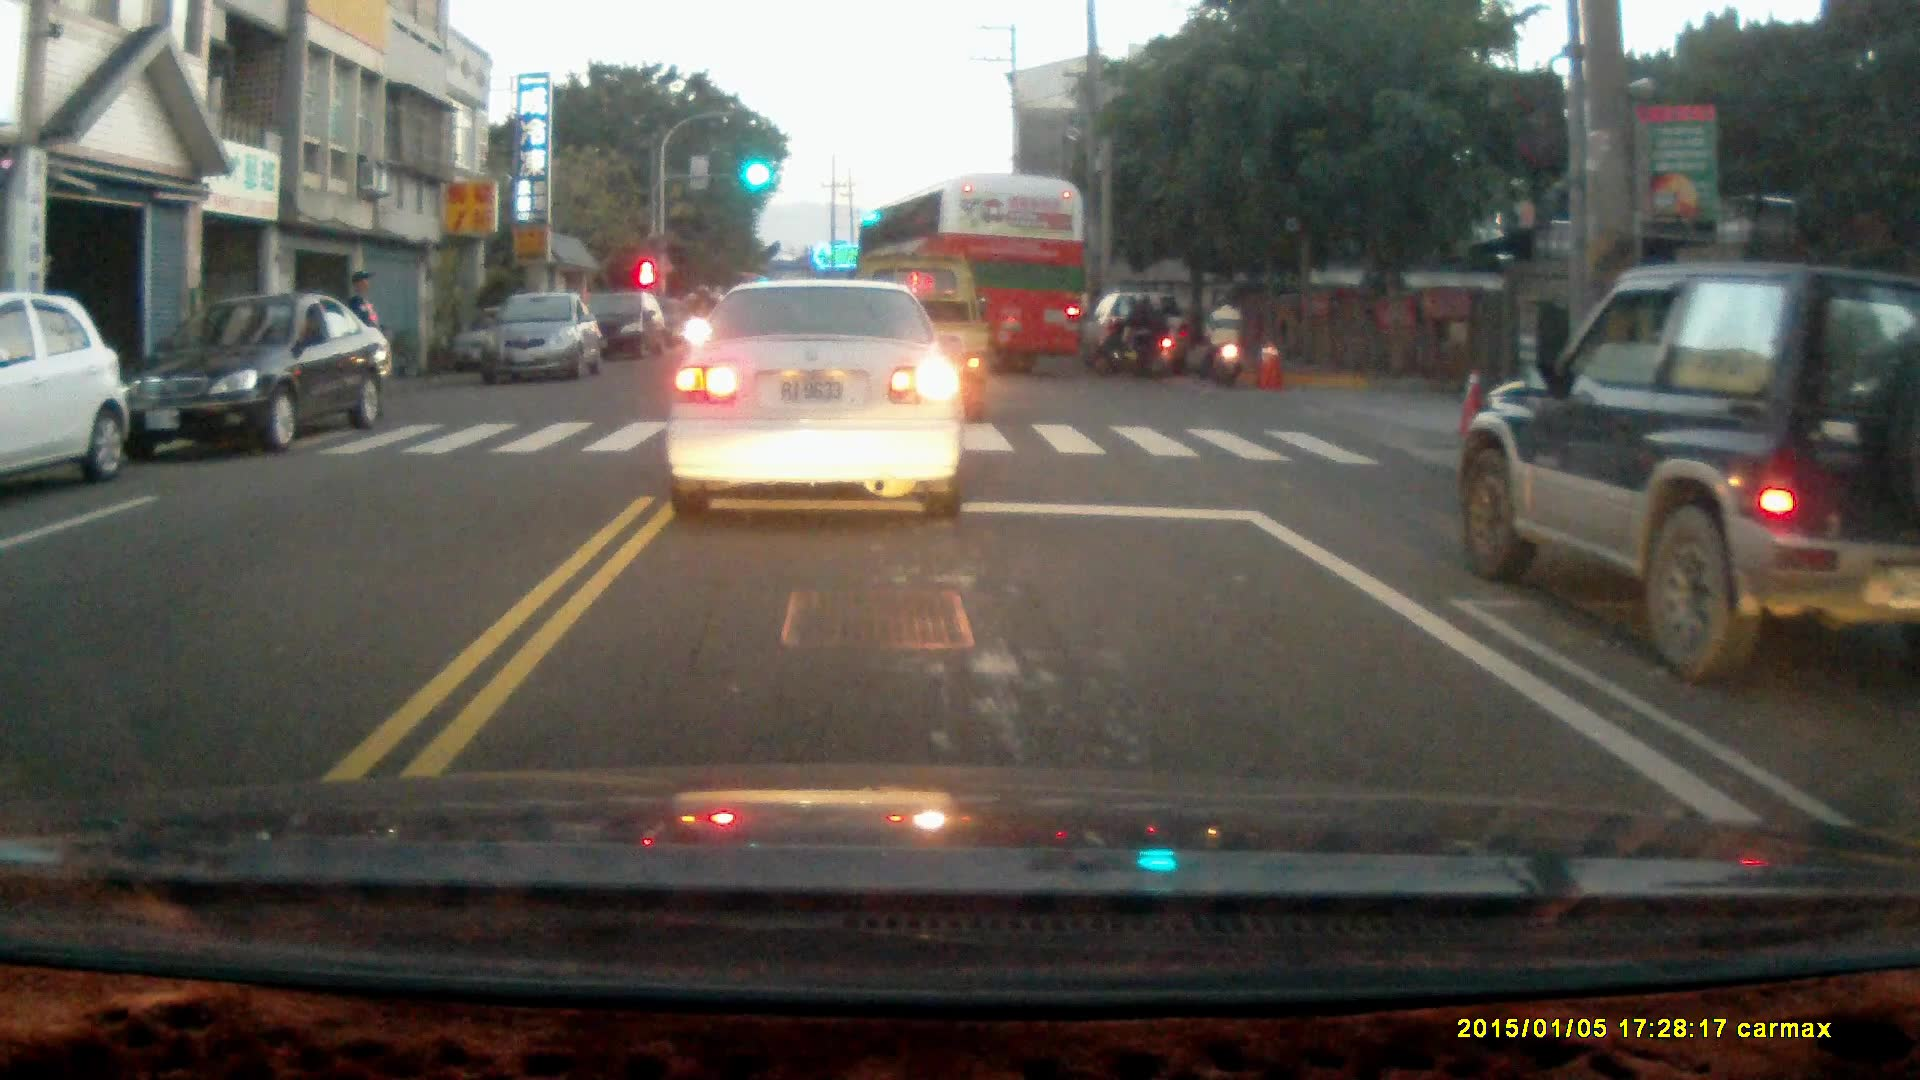pedestrian: (343, 269, 384, 410)
rider: (1092, 291, 1172, 378), (1191, 290, 1243, 388)
vehicle: (1460, 261, 1920, 684), (669, 278, 966, 523), (854, 171, 1089, 378), (113, 296, 397, 462), (1, 289, 131, 493), (470, 293, 608, 387), (1093, 290, 1211, 383), (583, 296, 671, 368)
